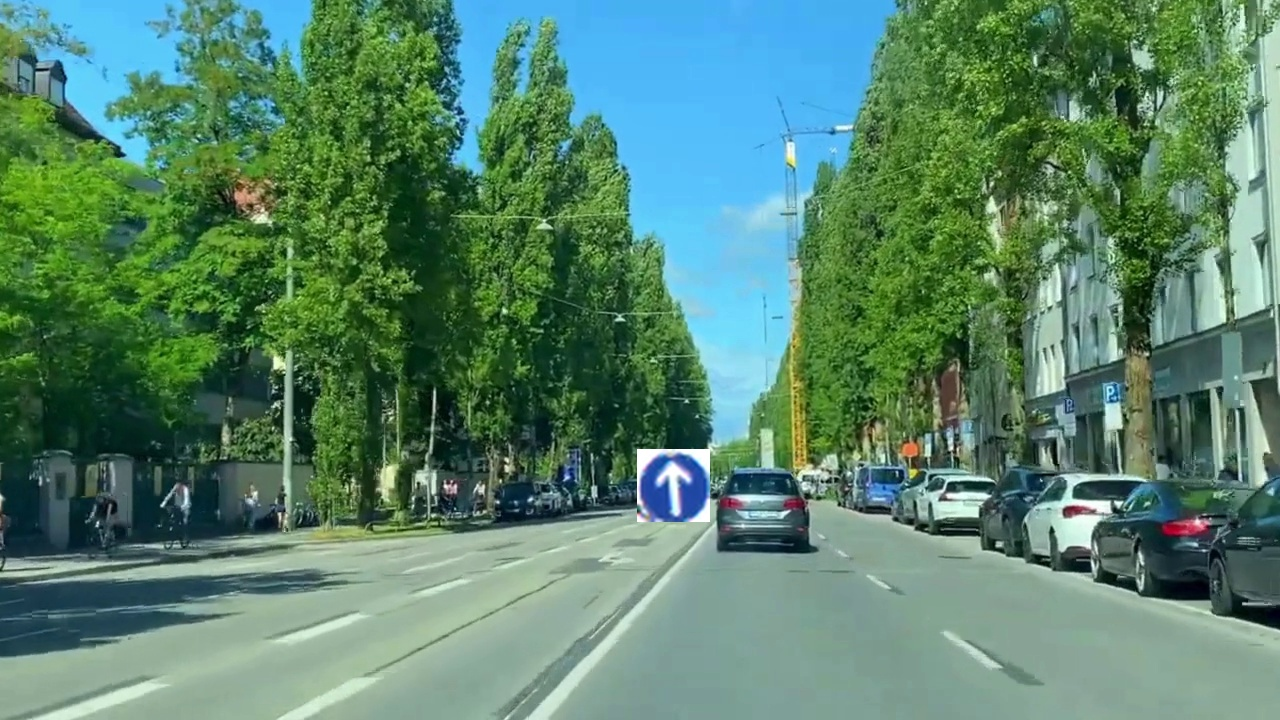Ahead only: (637, 449, 710, 522)
